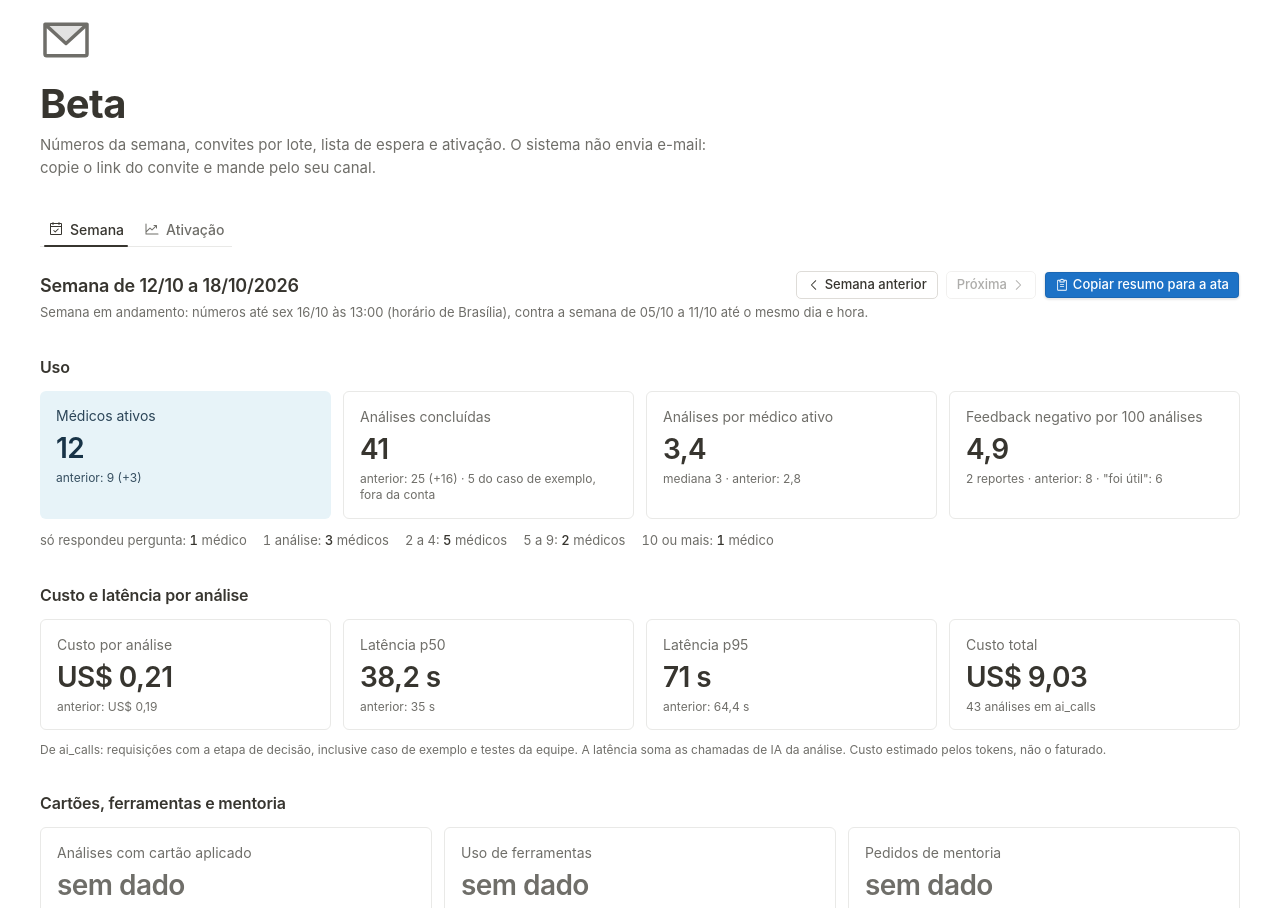
Console admin — beta (CC-702) › shows Compliance only the activation, with the rate against the target
This screenshot has width=1280, height=908.
Click the tab "Ativação" at (184, 229), box [136,211,232,247]
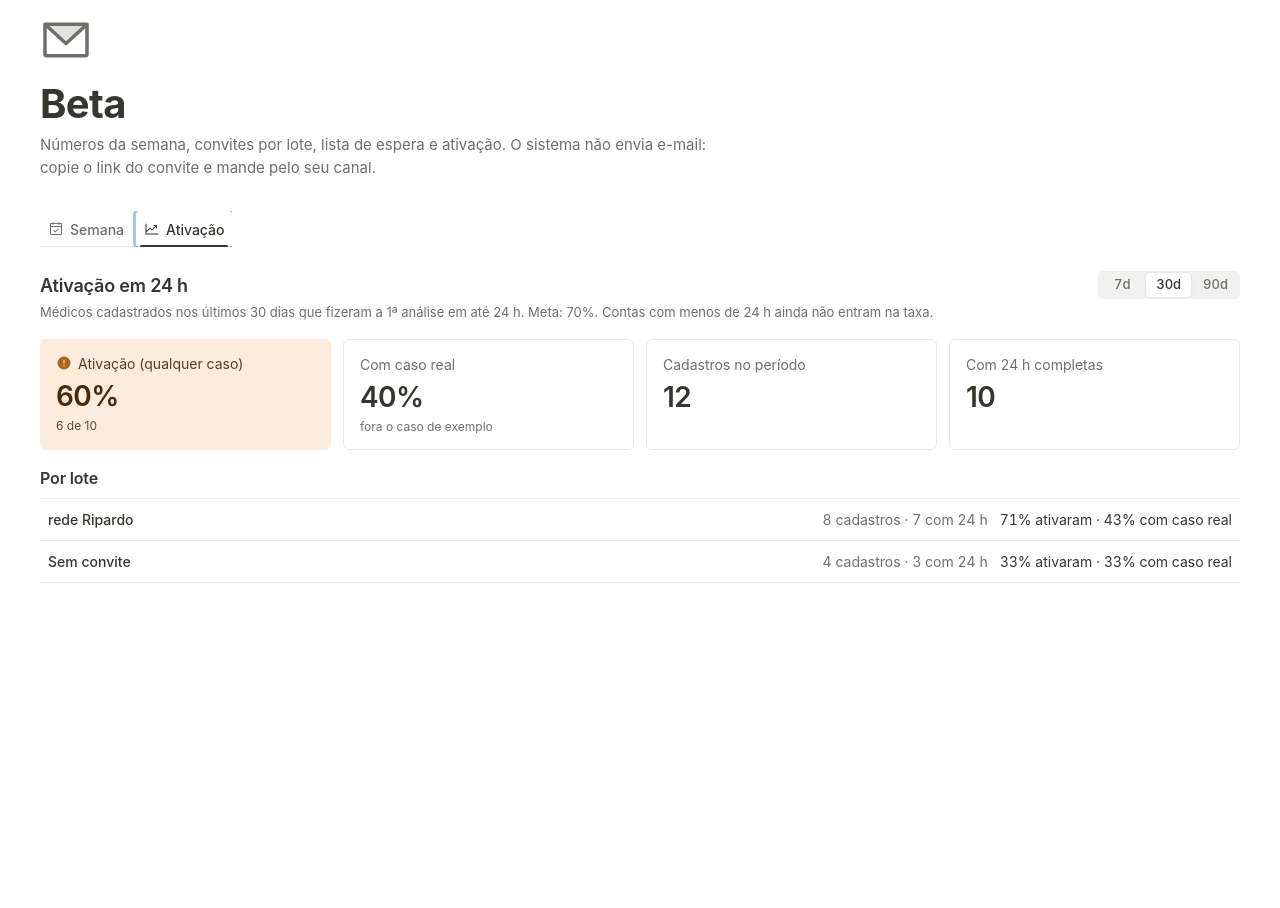
Check: the text "Sem convite" is shown, box [48,553,131,570]
Check: the text "60%" is shown, box [56,382,119,410]
Check: the text "6 de 10" is shown, box [56,418,97,432]
